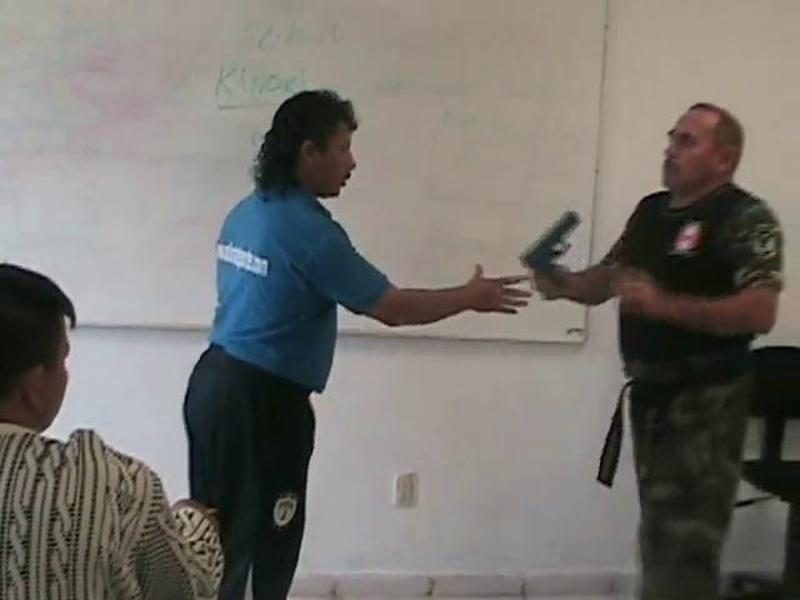Pistola: (506, 204, 591, 303)
